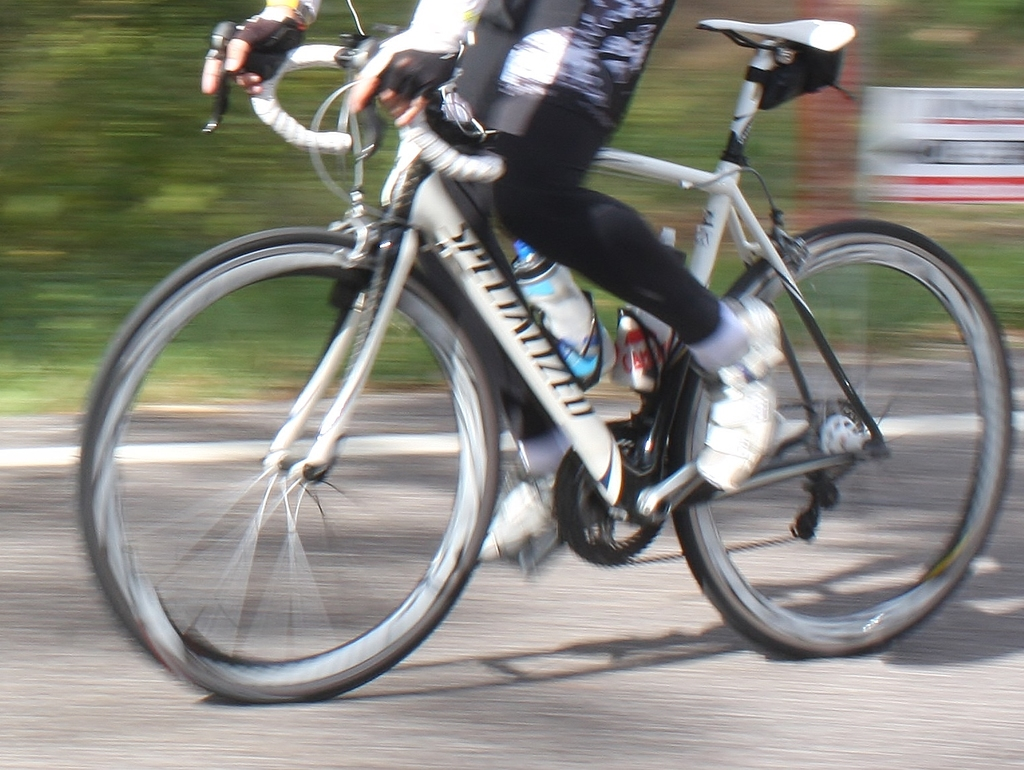Bike_toward: (98, 23, 791, 607)
